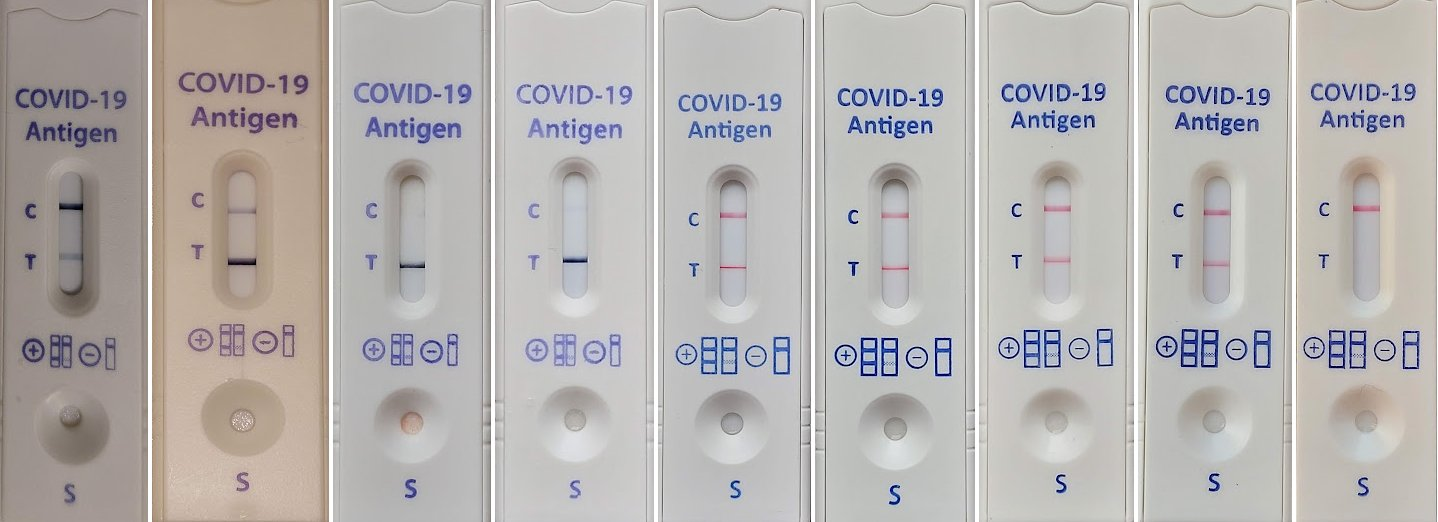negative: (1346, 167, 1392, 309)
positive: (389, 167, 434, 311), (552, 159, 594, 313), (874, 169, 917, 312), (1197, 175, 1240, 313), (1041, 169, 1082, 313), (220, 167, 262, 301), (713, 168, 752, 312), (53, 168, 93, 298)
